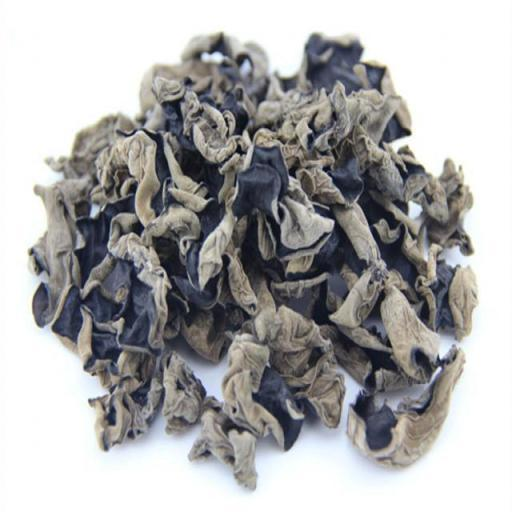mushroom: (30, 32, 478, 486)
